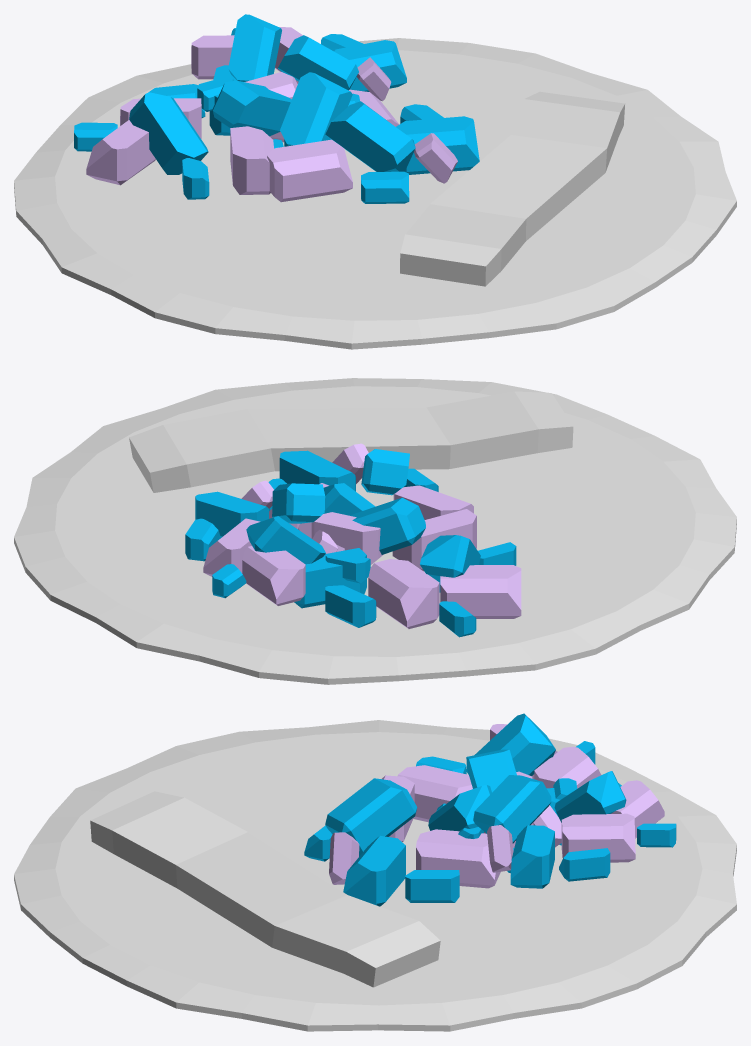
File: Cooked Bacon Cheese Omelette.fbx
The picture shows the model from 3 angles, top to bottom: view 1: azimuth 30°, elevation 25°; view 2: azimuth 150°, elevation 25°; view 3: azimuth 270°, elevation 25°; orthographic projection.
Visible parts, largest first — view 1: Omelette.001, Bacon Portion.001, Potato - Chopped (2), Potato - Chopped, Potato - Chopped (1); view 2: Omelette.001, Bacon Portion.001, Potato - Chopped, Potato - Chopped (1), Potato - Chopped (2); view 3: Omelette.001, Bacon Portion.001, Potato - Chopped (2), Potato - Chopped (1), Potato - Chopped.
Part boxes in pixels (bbox=[...]): Omelette.001: bbox=[14, 38, 736, 349]; Bacon Portion.001: bbox=[400, 91, 624, 286]; Potato - Chopped (2): bbox=[267, 72, 479, 203]; Potato - Chopped: bbox=[74, 65, 291, 199]; Potato - Chopped (1): bbox=[191, 14, 406, 111]; Omelette.001: bbox=[14, 378, 736, 684]; Bacon Portion.001: bbox=[129, 391, 573, 492]; Potato - Chopped: bbox=[294, 497, 521, 637]; Potato - Chopped (1): bbox=[185, 480, 383, 605]; Potato - Chopped (2): bbox=[268, 443, 473, 551]; Omelette.001: bbox=[14, 720, 736, 1031]; Bacon Portion.001: bbox=[90, 791, 440, 987]; Potato - Chopped (2): bbox=[304, 775, 515, 906]; Potato - Chopped (1): bbox=[458, 771, 676, 888]; Potato - Chopped: bbox=[397, 713, 621, 847].
Size of the model in its own units: 62.15 by 9.86 by 62.15.
